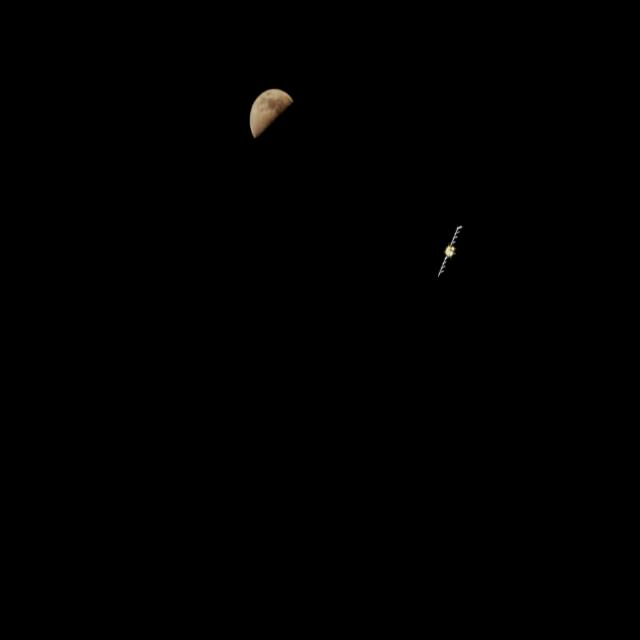satellite: (425, 213, 473, 293)
